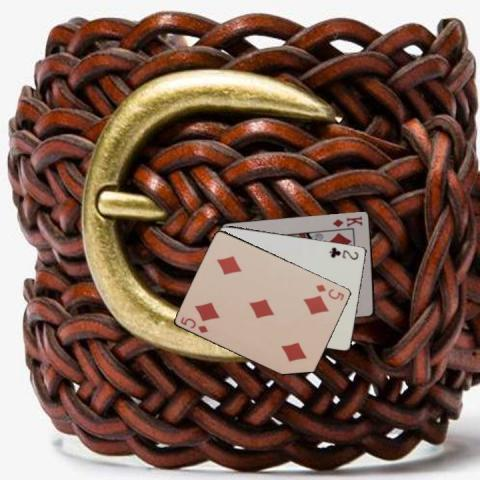2c: (327, 244, 360, 261)
5d: (313, 281, 346, 302), (178, 313, 210, 334)
Kd: (330, 213, 364, 228)
